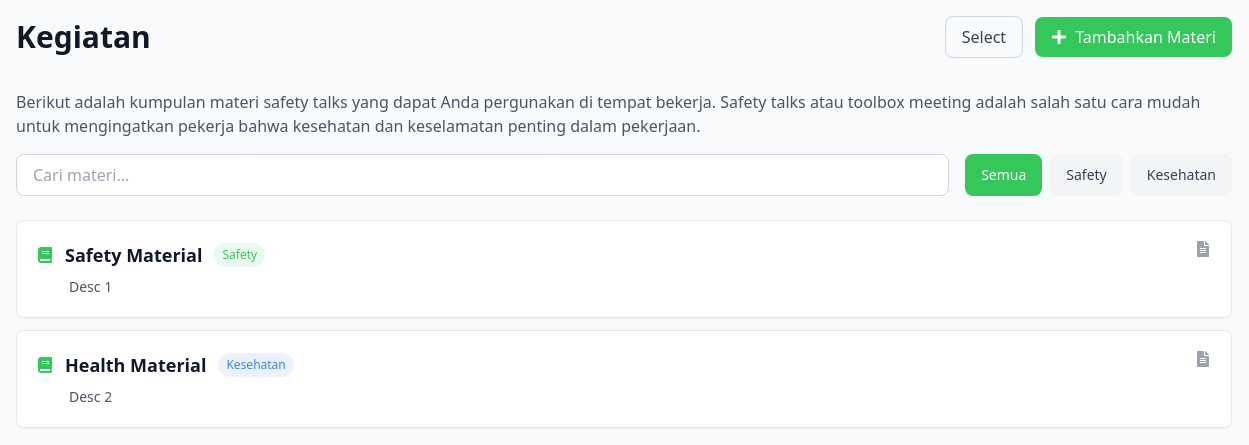
it: Kegiatan Component › should filter materials by category
Check: the heading "Safety Material" is shown, box [65,241,202,269]
What coordinates should you click on to do the following:
click the button "Safety"
I would click on:
 (1087, 175)
Its box is [1050,154,1123,196].
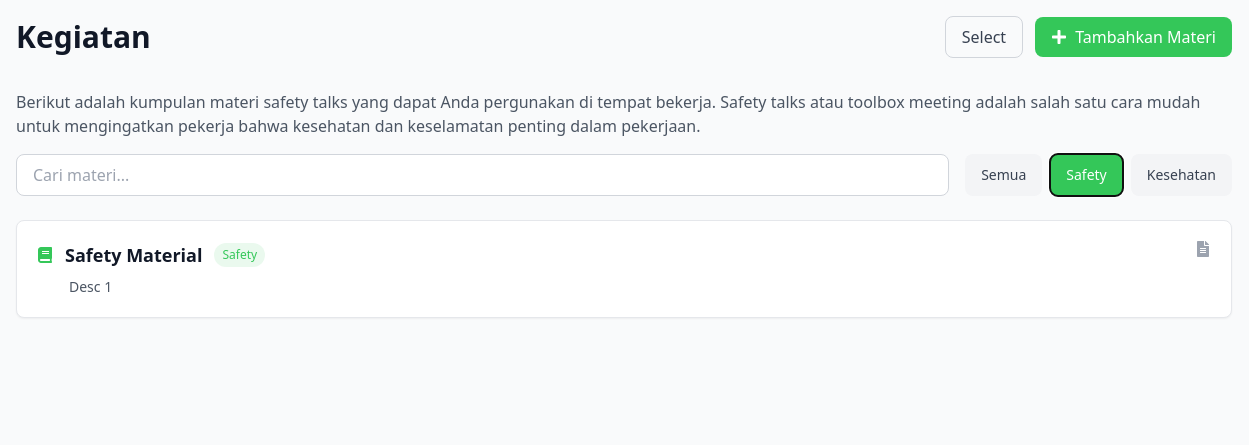
Check: the heading "Safety Material" is shown, box [65,241,202,269]
Check: the heading "Health Material" is gone
